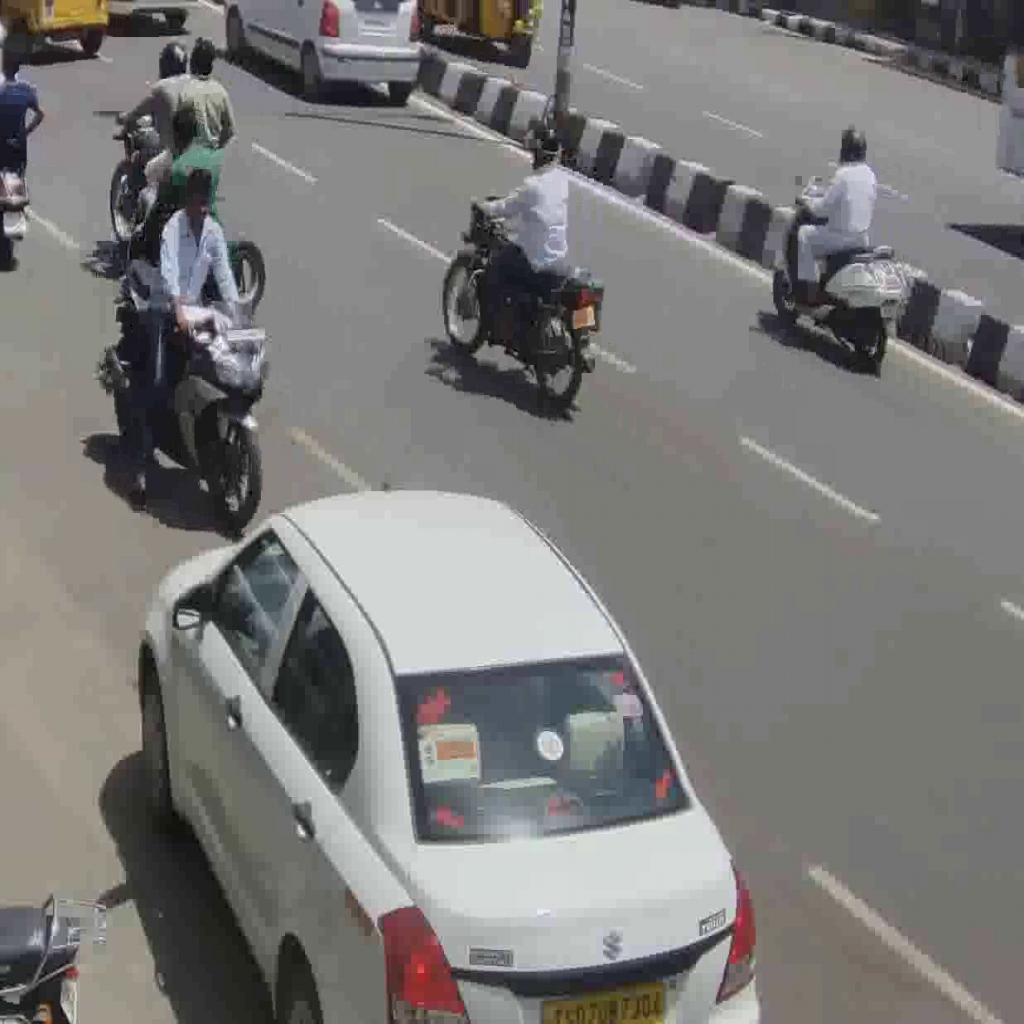helmet: (104, 256, 268, 524), (437, 191, 608, 410), (772, 181, 908, 366)
